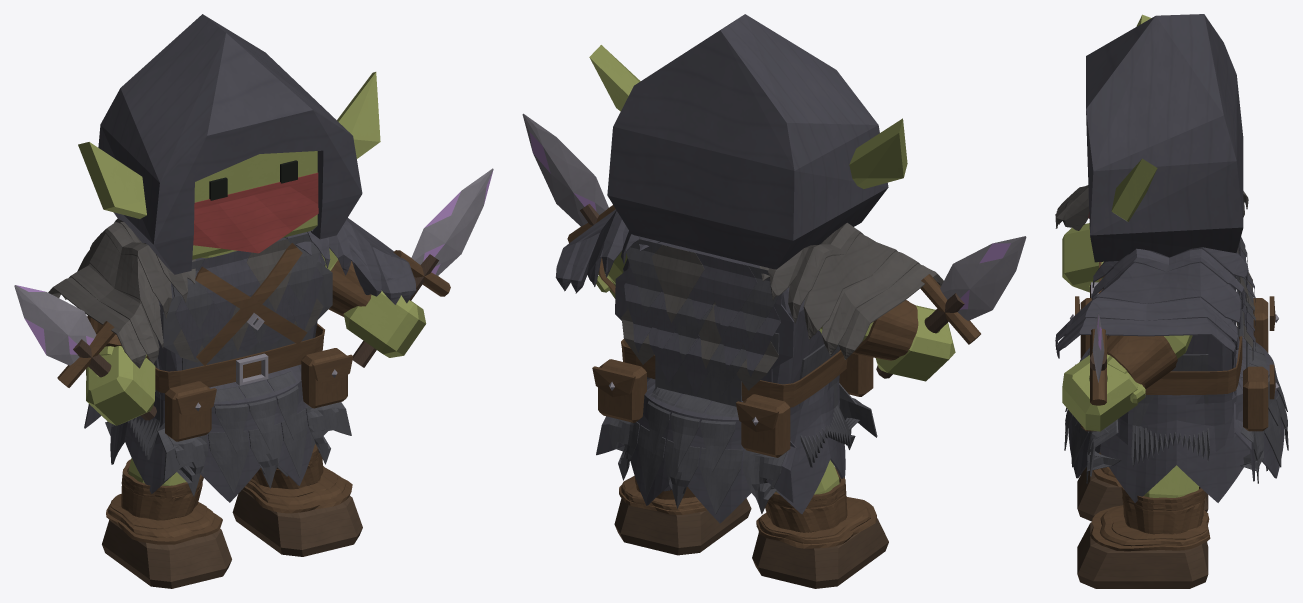
Rendered from host_38.glb.
3 renders of one model, left to right at view 1: azimuth 30°, elevation 25°; view 2: azimuth 150°, elevation 25°; view 3: azimuth 270°, elevation 25°, orthographic. The views are drawn at different scales.
Visible parts, largest first — view 1: Pointed brown hood - hollow outer cloth, Source full sloping layered shoulder mantle 1, Source pointed mouth mask, Source fitted ragged hem, RIGHT source planted boot actual tall brown wrap, RIGHT source planted boot, LEFT source planted boot, Source full sloping layered shoulder mantle -1, RIGHT real compact source grasp source compact planar grasp, LEFT source planted boot actual tall brown wrap, RIGHT source broad silver violet bevelled dagger, LEFT source broad silver violet bevelled dagger (+34 smaller); view 2: Pointed brown hood - hollow outer cloth, Source full sloping layered shoulder mantle 1, Source fitted ragged hem, RIGHT source planted boot actual tall brown wrap, RIGHT source planted boot, LEFT source planted boot, RIGHT source broad silver violet bevelled dagger, LEFT source broad silver violet bevelled dagger, Source full sloping layered shoulder mantle -1, Actual continuous source BACK mantle beneath layered cloth, Source broad triangular temple ear RIGHT, RIGHT real compact source grasp source compact planar grasp (+38 smaller); view 3: Pointed brown hood - hollow outer cloth, Source full sloping layered shoulder mantle -1, Source fitted ragged hem, LEFT source planted boot actual tall brown wrap, LEFT source planted boot, LEFT real compact source grasp source compact planar grasp, LEFT fitted source hollow leather bracer, Actual source SIDE torso cloak continuation LEFT, Source complete fitted brown knifeman belt, RIGHT real compact source grasp source compact planar grasp, Source actual leather flap pouch True-1, RIGHT source planted boot (+16 smaller).
Boxes of the visible parts, x1,y1,x2,y2 form: Pointed brown hood - hollow outer cloth: [98, 14, 362, 274]; Source full sloping layered shoulder mantle 1: [48, 218, 195, 368]; Source pointed mouth mask: [193, 172, 318, 253]; Source fitted ragged hem: [110, 364, 319, 502]; RIGHT source planted boot actual tall brown wrap: [106, 459, 222, 544]; RIGHT source planted boot: [102, 520, 231, 588]; LEFT source planted boot: [232, 489, 362, 556]; Source full sloping layered shoulder mantle -1: [284, 218, 416, 304]; RIGHT real compact source grasp source compact planar grasp: [86, 346, 155, 425]; LEFT source planted boot actual tall brown wrap: [242, 444, 352, 513]; RIGHT source broad silver violet bevelled dagger: [14, 285, 96, 365]; LEFT source broad silver violet bevelled dagger: [411, 168, 493, 275]; Pointed brown hood - hollow outer cloth: [607, 14, 888, 269]; Source full sloping layered shoulder mantle 1: [759, 222, 943, 359]; Source fitted ragged hem: [630, 374, 845, 523]; RIGHT source planted boot actual tall brown wrap: [756, 467, 877, 548]; RIGHT source planted boot: [752, 518, 888, 588]; LEFT source planted boot: [614, 498, 751, 555]; RIGHT source broad silver violet bevelled dagger: [940, 236, 1026, 320]; LEFT source broad silver violet bevelled dagger: [522, 113, 608, 226]; Source full sloping layered shoulder mantle -1: [555, 209, 660, 293]; Actual continuous source BACK mantle beneath layered cloth: [596, 265, 796, 503]; Source broad triangular temple ear RIGHT: [849, 118, 907, 188]; RIGHT real compact source grasp source compact planar grasp: [875, 305, 955, 381]; Pointed brown hood - hollow outer cloth: [1086, 14, 1243, 262]; Source full sloping layered shoulder mantle -1: [1055, 247, 1248, 358]; Source fitted ragged hem: [1068, 320, 1284, 502]; LEFT source planted boot actual tall brown wrap: [1090, 487, 1210, 551]; LEFT source planted boot: [1077, 522, 1208, 588]; LEFT real compact source grasp source compact planar grasp: [1062, 354, 1145, 431]; LEFT fitted source hollow leather bracer: [1107, 335, 1177, 388]; Actual source SIDE torso cloak continuation LEFT: [1131, 354, 1209, 467]; Source complete fitted brown knifeman belt: [1107, 322, 1242, 395]; RIGHT real compact source grasp source compact planar grasp: [1062, 223, 1103, 292]; Source actual leather flap pouch True-1: [1243, 366, 1268, 431]; RIGHT source planted boot: [1077, 467, 1208, 521].
Bounding box in the file's own units: 1.53 × 1.55 × 0.6277.
Materials: 11 (9 with a texture image).
